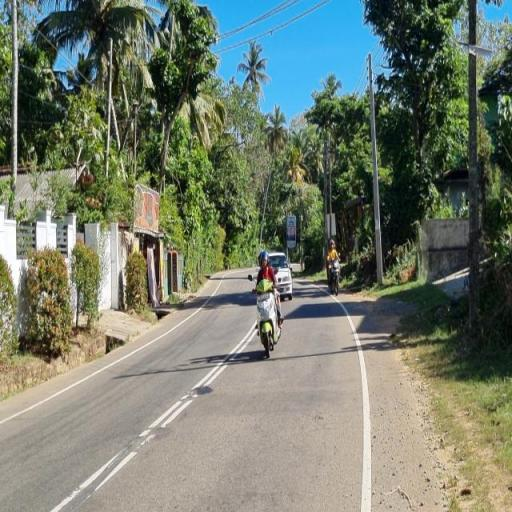double_white_line: (139, 323, 258, 445)
